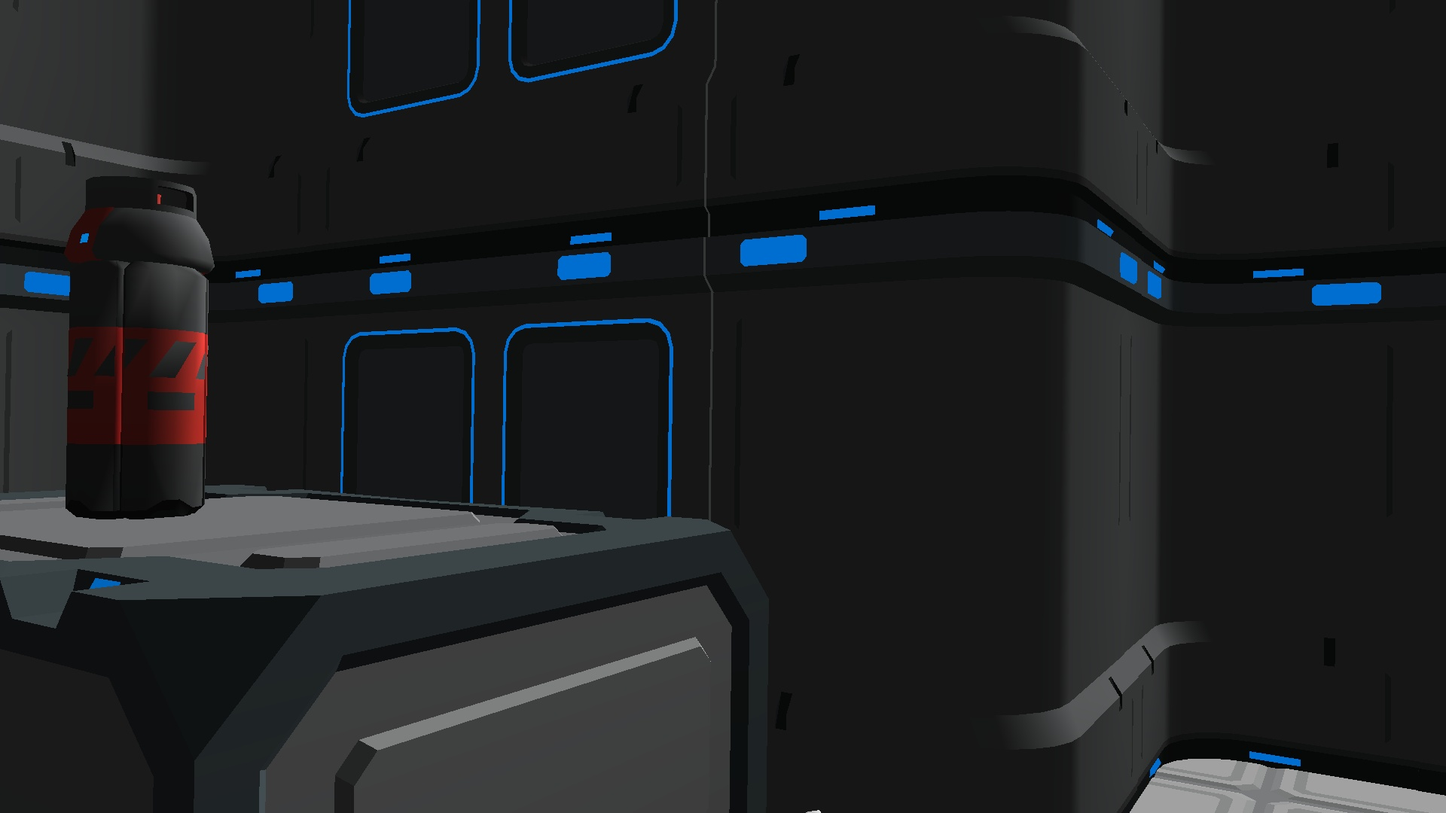red barrel: (66, 176, 215, 519)
